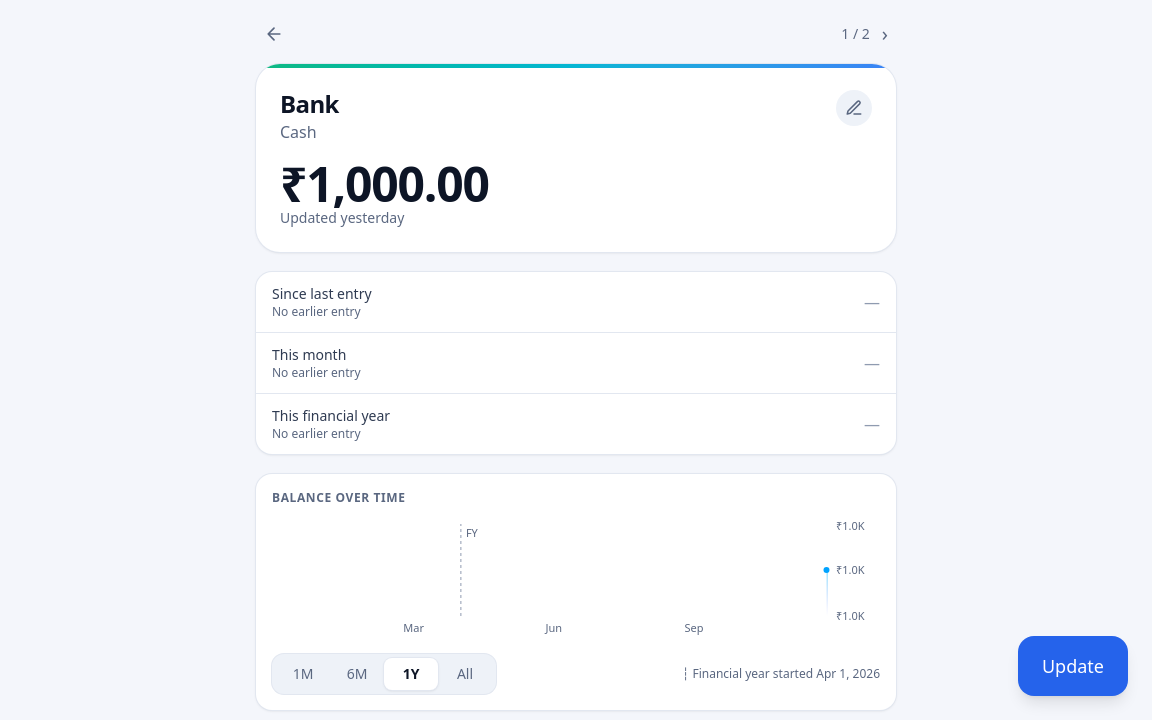
Test: UpdateBalanceSheet › saves a positive balance for an asset, dated today by default
Click the button "Update" at (1073, 666), box [1018,636,1128,696]
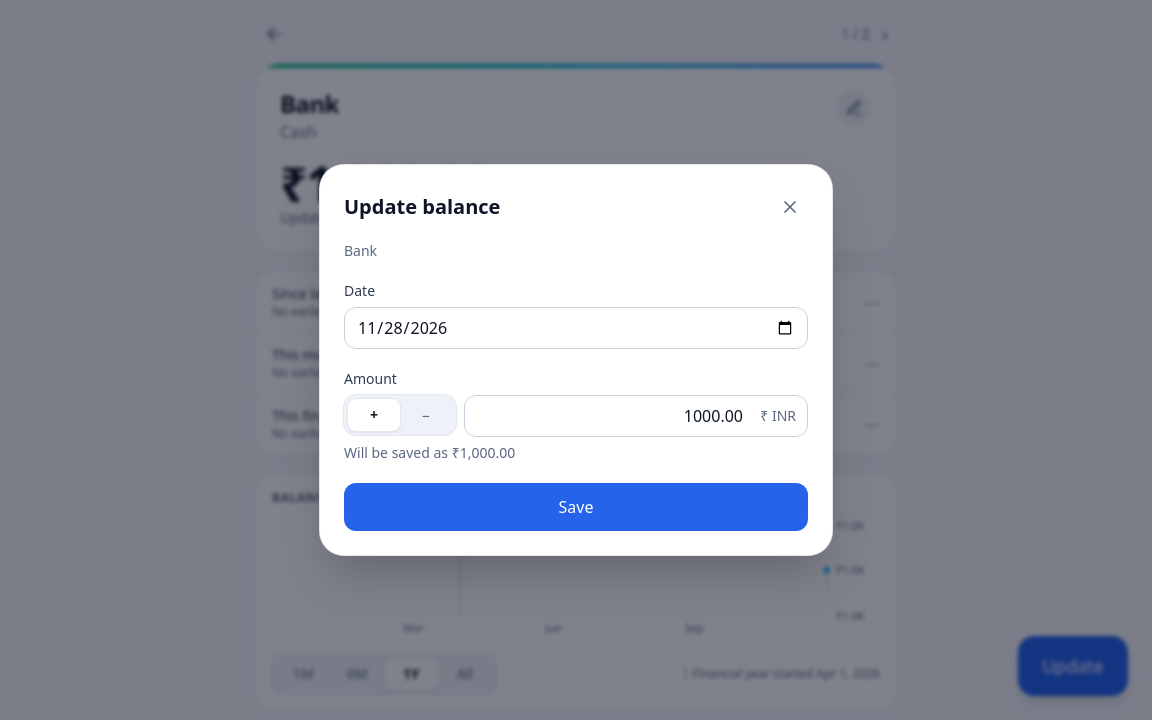
Result: the text "₹ INR" is shown at [760,406,796,425]
Replace the text in the field labelled "Amount" with "1,234.5" at (636, 416), box [464,395,808,437]
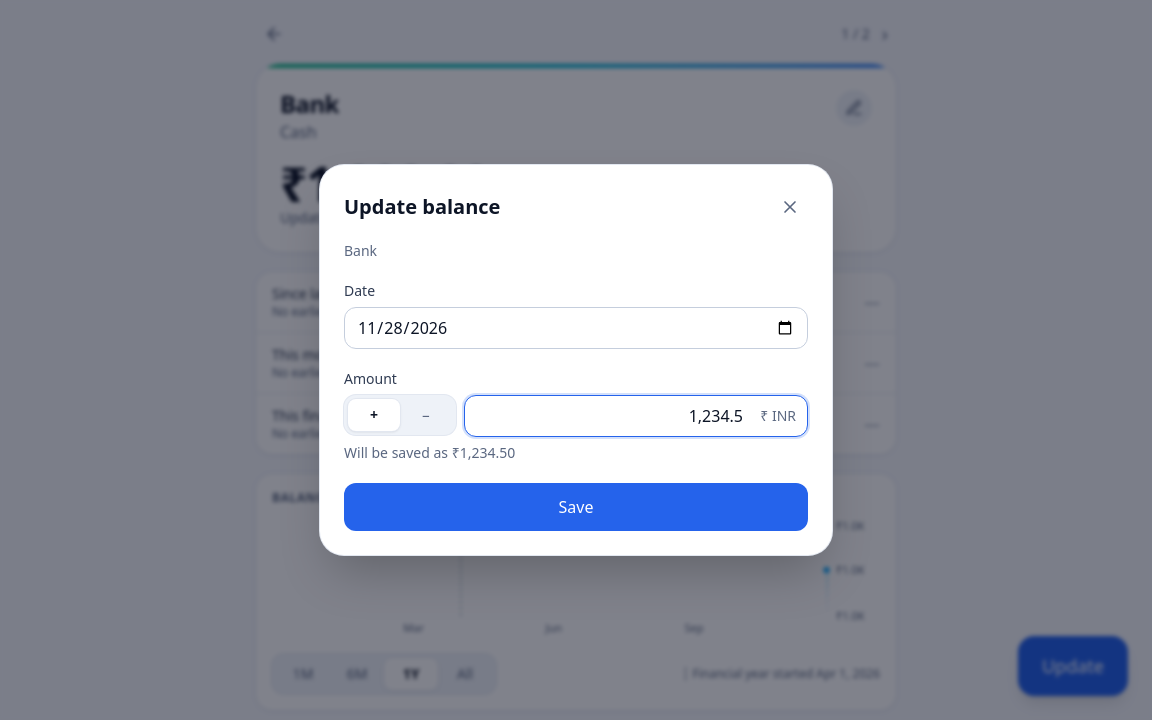
Result: the text "Will be saved as ₹1,234.50" is shown at [344,443,515,462]
Click the button "Save" at (576, 507), box [344,483,808,531]
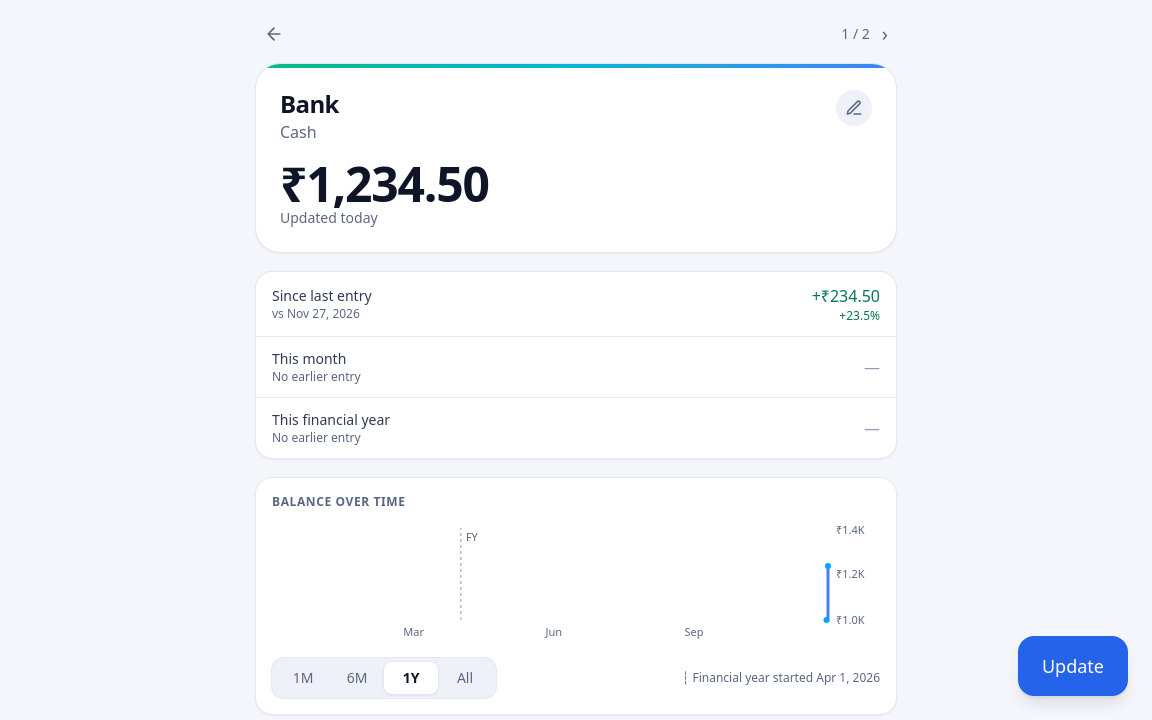
Result: the dialog is gone
